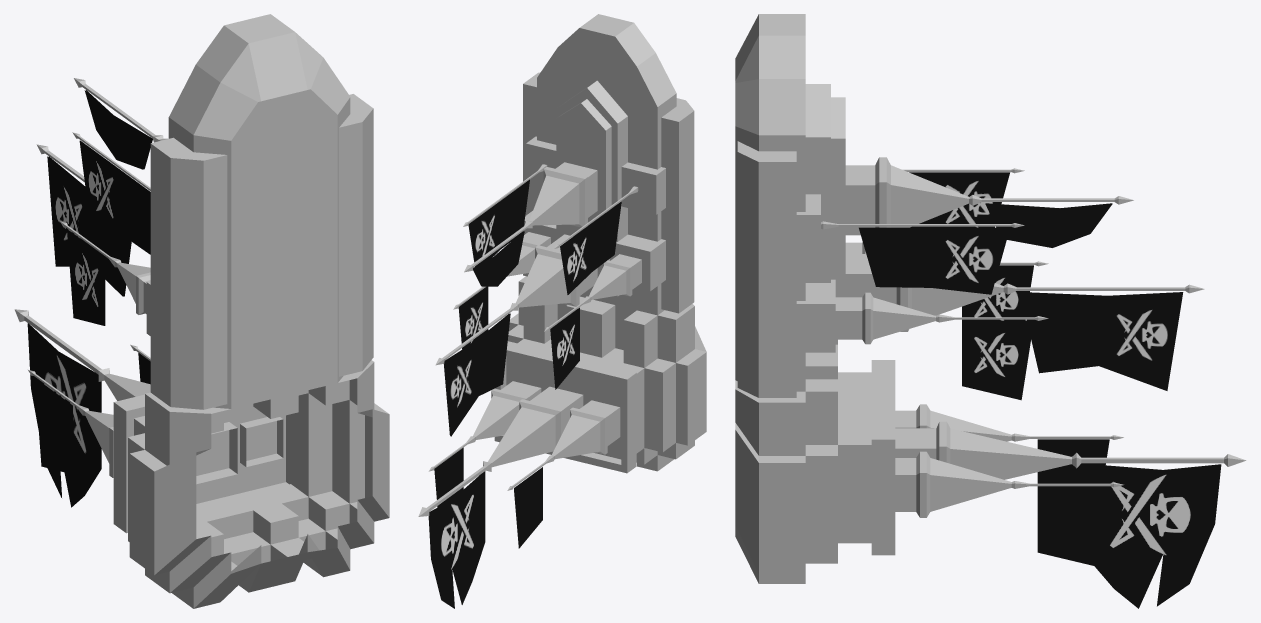
File: skin_16.fbx
3 renders of one model, left to right at view 1: azimuth 30°, elevation 25°; view 2: azimuth 150°, elevation 25°; view 3: azimuth 270°, elevation 25°, orthographic. The views are drawn at different scales.
Visible parts, largest first — view 1: Cube.636; view 2: Cube.636; view 3: Cube.636.
Part boxes in pixels (left/top/right/bottom): Cube.636: left=14, top=14, right=389, bottom=608; Cube.636: left=418, top=14, right=706, bottom=608; Cube.636: left=735, top=14, right=1246, bottom=608.
Bounding box in the file's own units: 774 × 1940 × 1540.
